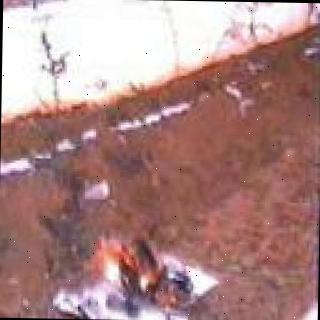fire: (72, 226, 197, 316)
